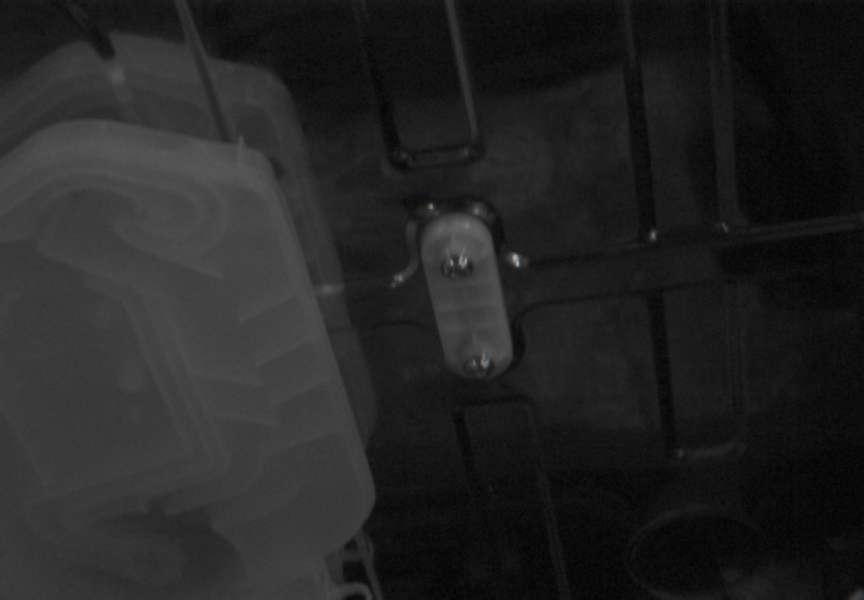screw: (463, 352, 495, 379), (441, 253, 474, 278)
